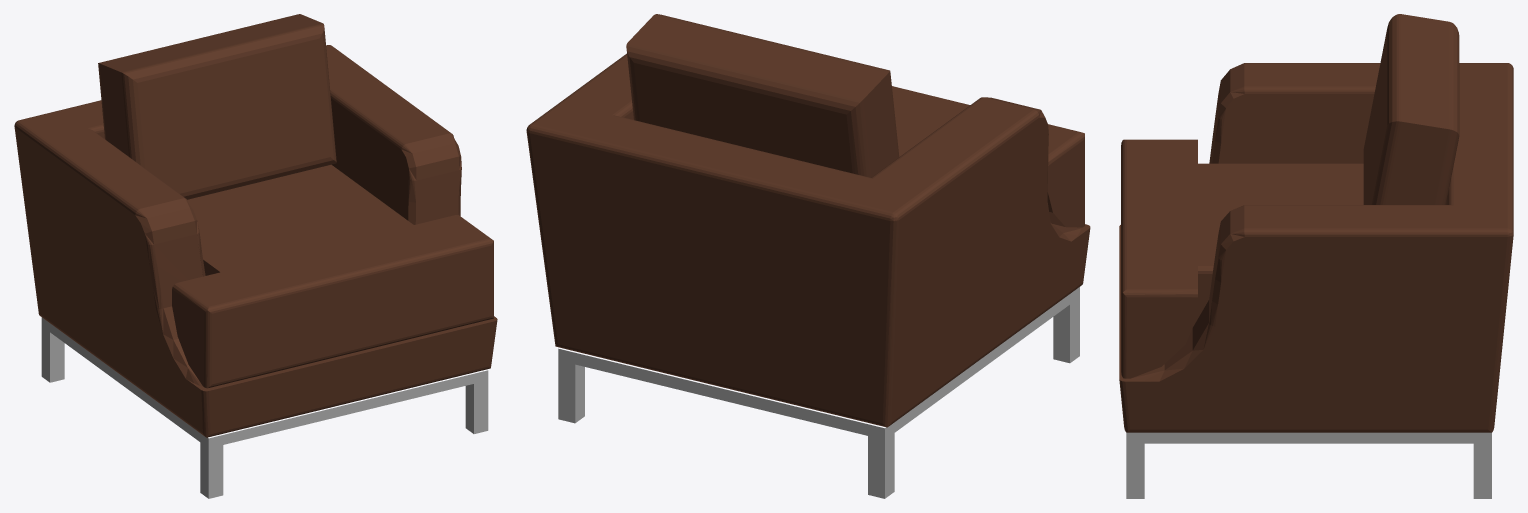
The model's file is sofa-by-cmht-oculus-5ngh9YauT9G.glb.
3 renders of one model, left to right at view 1: azimuth 30°, elevation 25°; view 2: azimuth 150°, elevation 25°; view 3: azimuth 270°, elevation 25°, orthographic. The views are drawn at different scales.
Visible parts, largest first — view 1: Node; view 2: Node; view 3: Node.
Part boxes in pixels (x1,y1,x2,y2): Node: [14, 14, 497, 498]; Node: [526, 14, 1090, 498]; Node: [1119, 14, 1513, 498].
Size of the model in its own units: 33.02 by 32.25 by 32.37.
